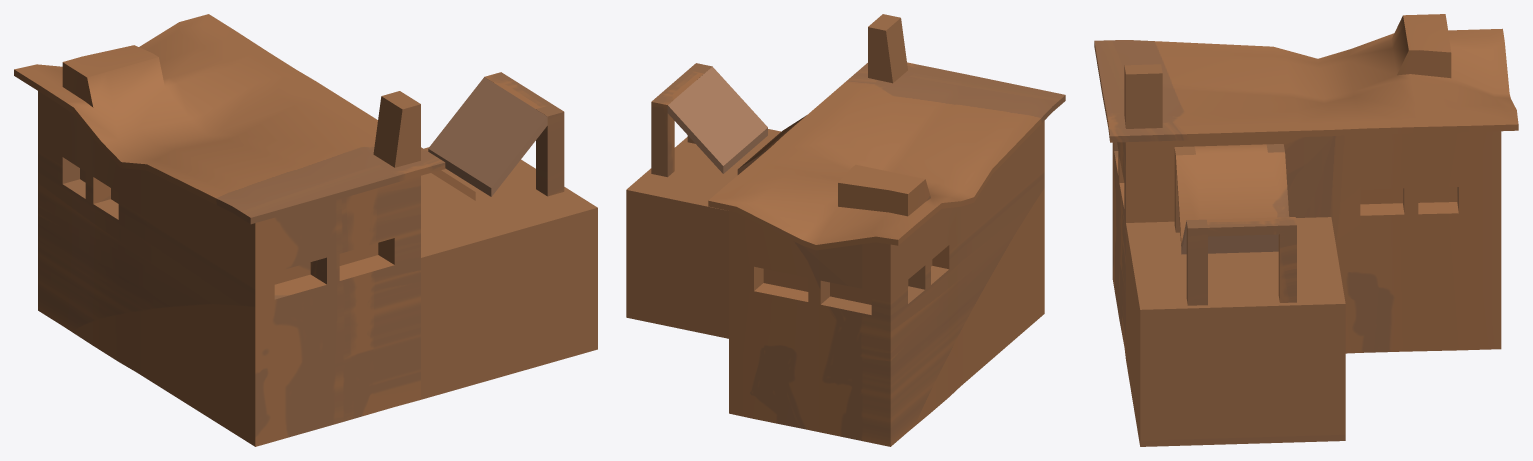
File: GrosseMaison.fbx
The picture shows the model from 3 angles, left to right: view 1: azimuth 30°, elevation 25°; view 2: azimuth 150°, elevation 25°; view 3: azimuth 270°, elevation 25°; orthographic projection. The views are drawn at different scales.
Visible parts, largest first — view 1: Cube.081, Cube.086; view 2: Cube.081, Cube.086; view 3: Cube.081, Cube.086.
Part boxes in pixels (x1=…): Cube.081: x1=14, y1=14, x2=597, y2=446; Cube.086: x1=428, y1=77, x2=547, y2=196; Cube.081: x1=626, y1=14, x2=1065, y2=446; Cube.086: x1=667, y1=66, x2=767, y2=173; Cube.081: x1=1094, y1=14, x2=1518, y2=446; Cube.086: x1=1181, y1=220, x2=1278, y2=254.
Size of the model in its own units: 1169 by 834 by 1122.
Materials: 2 (1 with a texture image).
